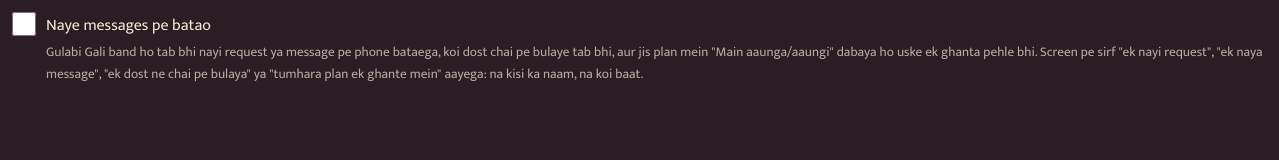
Test: "Naye messages pe batao": on with a tap, and it says what the lock screen will (and will not) show
The image size is (1279, 160).
Click the checkbox: [24, 24] box [12,12,36,36]
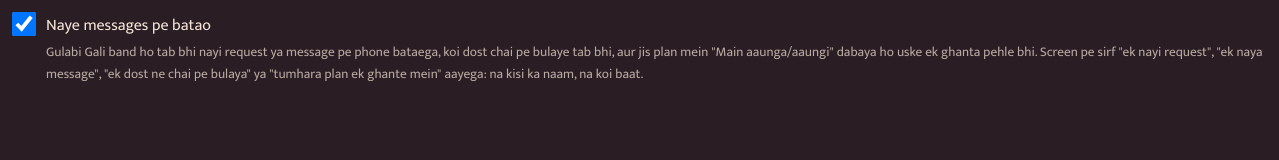
Check: the checkbox is checked
Click the checkbox: [24, 24] box [12,12,36,36]
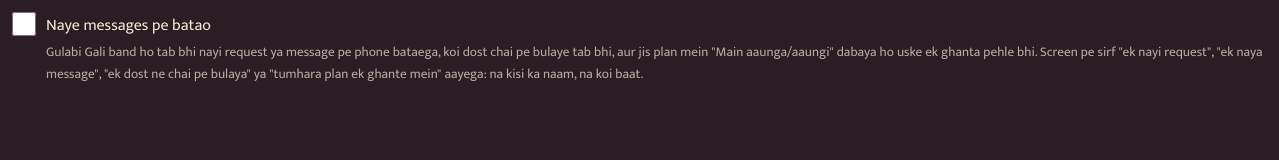
Check: the checkbox is not checked, box [12,12,36,36]
